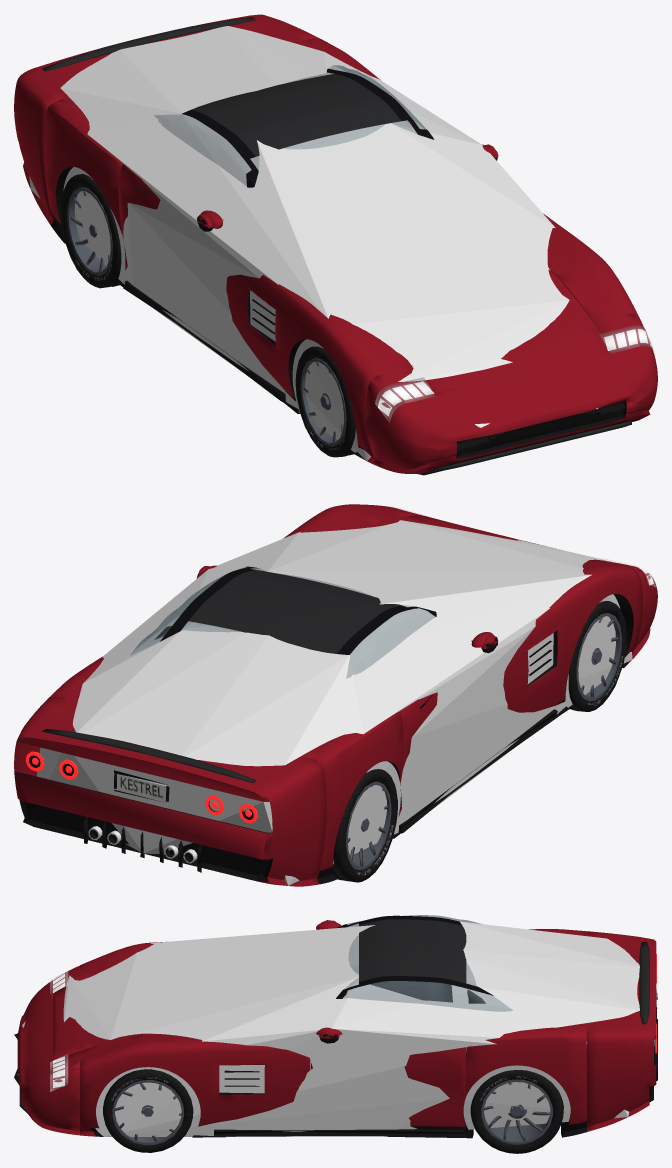
Rendered from kestrel_gtr_lod1.glb.
3 views of the same model, one above another, from view 1: azimuth 30°, elevation 25°; view 2: azimuth 150°, elevation 25°; view 3: azimuth 270°, elevation 25° (orthographic). The views are drawn at different scales.
Parts seen in each view (by area): view 1: col_body, body, trim, glass, wheel_RR, wheel_FR, lights_front, underbody; view 2: col_body, body, trim, glass, wheel_RR, wheel_FR, lights_rear, plate_rear, exhaust, underbody; view 3: col_body, body, wheel_RL, glass, wheel_FL, trim, interior, lights_front.
Boxes of the visible parts, <box> form: col_body: <box>29,26,597,460</box>; body: <box>14,14,657,473</box>; trim: <box>42,17,631,475</box>; glass: <box>154,65,426,186</box>; wheel_RR: <box>60,174,122,288</box>; wheel_FR: <box>295,346,355,457</box>; lights_front: <box>375,325,654,422</box>; underbody: <box>56,167,638,472</box>; col_body: <box>36,520,632,885</box>; body: <box>14,504,657,886</box>; trim: <box>42,566,557,872</box>; glass: <box>130,567,435,678</box>; wheel_RR: <box>332,769,397,882</box>; wheel_FR: <box>568,601,626,711</box>; lights_rear: <box>25,751,257,823</box>; plate_rear: <box>114,770,169,802</box>; exhaust: <box>88,826,197,863</box>; underbody: <box>388,593,633,838</box>; col_body: <box>17,921,654,1136</box>; body: <box>14,915,656,1138</box>; wheel_RL: <box>470,1070,563,1153</box>; glass: <box>343,915,512,1011</box>; wheel_FL: <box>103,1069,193,1152</box>; trim: <box>19,920,657,1137</box>; interior: <box>370,981,485,1003</box>; lights_front: <box>50,970,68,1091</box>.
Bounding box in the file's own units: 2.01 × 1.28 × 4.8.
15 materials, 3 textured.
